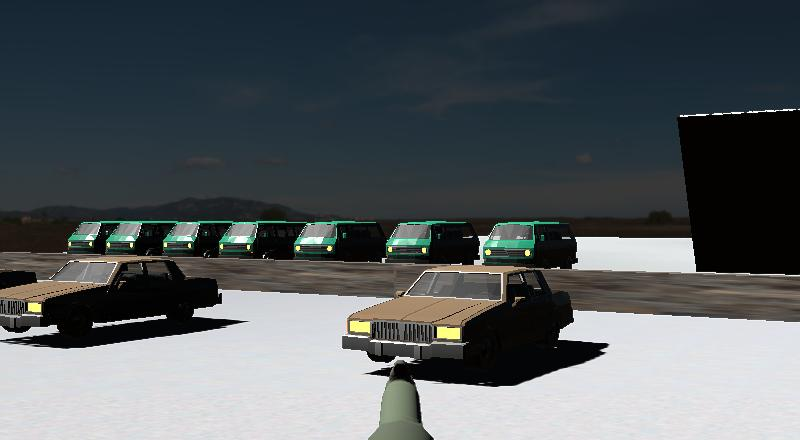car: (327, 260, 593, 398), (0, 249, 237, 359), (476, 213, 589, 279), (380, 216, 484, 270), (290, 217, 390, 265), (215, 217, 318, 261)
